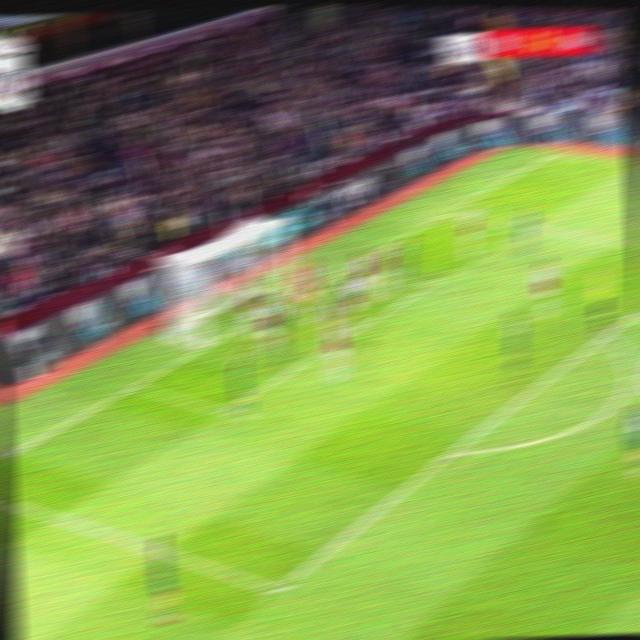bigarea_bottom_inner: (260, 572, 295, 608)
bigarea_top_outter: (436, 204, 459, 220)
bottom_arc_area_intersection: (437, 438, 467, 467)
corner: (542, 146, 568, 162)
smallarea_bottom_inner: (212, 397, 239, 423)
smallarea_bottom_outter: (122, 371, 150, 398)
smallarea_top_inner: (416, 274, 442, 296)
smallarea_top_outter: (334, 260, 358, 278)
top_arc_area_intersection: (593, 322, 622, 347)
